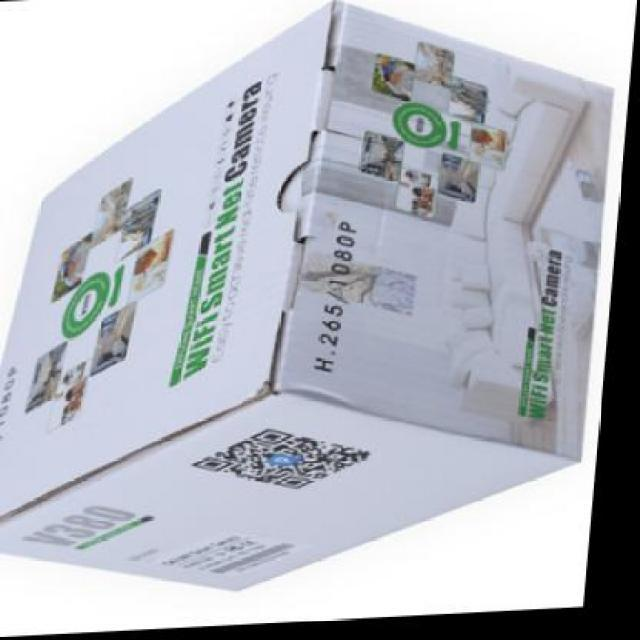box: (0, 0, 621, 607)
